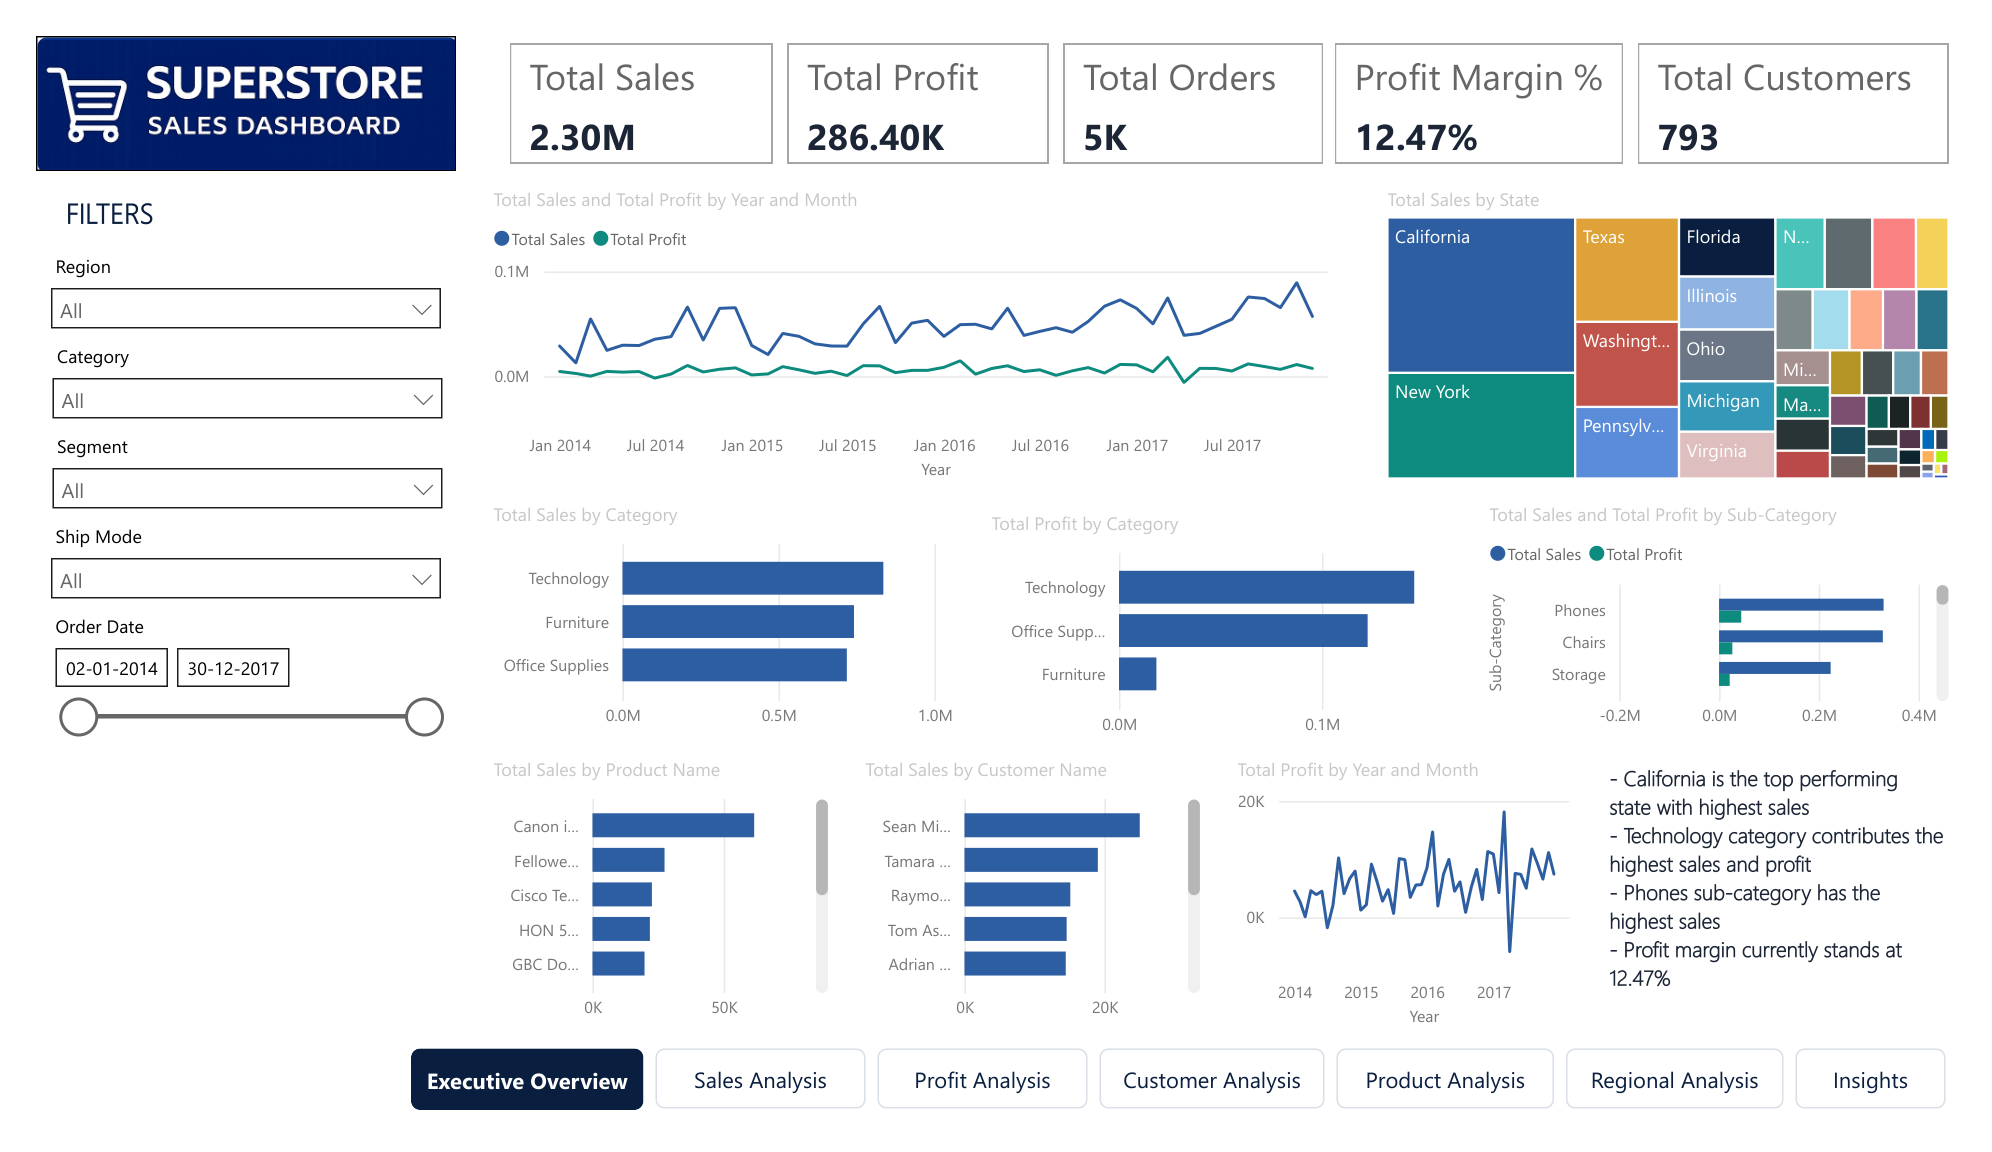

Layout of this report page (visuals, bound fields, positions):
{"tool":"powerbi","page":{"name":"Executive Overview","canvas":[1280,720],"ordinal":0},"visuals":[{"type":"cardVisual","fields":{"Data":["Sample - Superstore 2.Total Sales"]},"box":[311.4,0,184.3,90],"z":0},{"type":"cardVisual","fields":{"Data":["Sample - Superstore 2.Total Profit"]},"box":[495.7,0,184.3,90],"z":1000},{"type":"cardVisual","fields":{"Data":["Sample - Superstore 2.Profit Margin %"]},"box":[861.4,0,201.4,90],"z":2000},{"type":"clusteredBarChart","fields":{"Category":["Sample - Superstore 2.Sub-Category"],"Y":["Sample - Superstore 2.Total Sales","Sample - Superstore 2.Total Profit"]},"box":[964,310,316,160],"z":3000},{"type":"treemap","fields":{"Group":["Sample - Superstore 2.State"],"Values":["Sample - Superstore 2.Total Sales"]},"box":[896,100,384,200],"z":4000},{"type":"lineChart","fields":{"Y":["Sample - Superstore 2.Total Sales","Sample - Superstore 2.Total Profit"],"Category":["Date.Date.Variation.Date Hierarchy.Year","Date.Date.Variation.Date Hierarchy.Month"]},"box":[300,100,576,200],"z":5000},{"type":"slicer","fields":{"Values":["Sample - Superstore 2.Region"]},"box":[0,140,280,55],"z":6000},{"type":"slicer","fields":{"Values":["Sample - Superstore 2.Category"]},"box":[1.1,200,280,55],"z":7000},{"type":"slicer","fields":{"Values":["Sample - Superstore 2.Order Date"]},"box":[0,380,280.3,130],"z":8000},{"type":"cardVisual","fields":{"Data":["Sample - Superstore 2.Total Orders"]},"box":[680,0,182.9,90],"z":9000},{"type":"cardVisual","fields":{"Data":["Sample - Superstore 2.Total Customers"]},"box":[1062.9,0,217.1,90],"z":10000},{"type":"clusteredBarChart","fields":{"Category":["Sample - Superstore 2.Category"],"Y":["Sample - Superstore 2.Total Sales"]},"box":[300,310,316,160],"z":11000},{"type":"clusteredBarChart","fields":{"Category":["Sample - Superstore 2.Category"],"Y":["Sample - Superstore 2.Total Profit"]},"box":[632,316,310,160],"z":12000},{"type":"clusteredBarChart","fields":{"Category":["Sample - Superstore 2.Product Name"],"Y":["Sample - Superstore 2.Total Sales"]},"box":[300,480,233,185],"z":13000},{"type":"clusteredBarChart","fields":{"Category":["Sample - Superstore 2.Customer Name"],"Y":["Sample - Superstore 2.Total Sales"]},"box":[548,480,233,185],"z":14000},{"type":"lineChart","fields":{"Y":["Sample - Superstore 2.Total Profit"],"Category":["Date.Date.Variation.Date Hierarchy.Year","Date.Date.Variation.Date Hierarchy.Month"]},"box":[796,480,233,185],"z":15000},{"type":"textbox","box":[1044,480,233,185],"z":16000},{"type":"slicer","fields":{"Values":["Sample - Superstore 2.Segment"]},"box":[1.1,260,280,55],"z":17000},{"type":"slicer","fields":{"Values":["Sample - Superstore 2.Ship Mode"]},"box":[0,320,280,54.6],"z":18000},{"type":"actionButton","title":"sdgtsdgte","box":[250,675,155,40.7],"z":19000},{"type":"actionButton","box":[413,675,140,40],"z":20000},{"type":"actionButton","box":[867,675,145,40],"z":21000},{"type":"actionButton","box":[709,675,150,40],"z":22000},{"type":"actionButton","box":[561,675,140,40],"z":23000},{"type":"actionButton","box":[1020,675,145,40],"z":24000},{"type":"actionButton","box":[1173,675,100,40],"z":25000},{"type":"image","box":[0,0,280.3,89.6],"z":26000},{"type":"textbox","box":[15,100,200,35],"z":28000}]}

Visuals, with their boxes in screenshot pixels (x1, y1, x2, y2), scaled from the page's 1280x720 canvas onto the 1992x1152 screenshot:
cardVisual - Sample - Superstore 2.Total Sales: [485,0,771,144]
cardVisual - Sample - Superstore 2.Total Profit: [771,0,1058,144]
cardVisual - Sample - Superstore 2.Profit Margin %: [1341,0,1654,144]
clusteredBarChart - Sample - Superstore 2.Sub-Category x Sample - Superstore 2.Total Sales: [1500,496,1991,752]
treemap - Sample - Superstore 2.State x Sample - Superstore 2.Total Sales: [1394,160,1991,480]
lineChart - Sample - Superstore 2.Total Sales x Sample - Superstore 2.Total Profit: [467,160,1363,480]
slicer - Sample - Superstore 2.Region: [0,224,436,312]
slicer - Sample - Superstore 2.Category: [2,320,437,408]
slicer - Sample - Superstore 2.Order Date: [0,608,436,816]
cardVisual - Sample - Superstore 2.Total Orders: [1058,0,1343,144]
cardVisual - Sample - Superstore 2.Total Customers: [1654,0,1991,144]
clusteredBarChart - Sample - Superstore 2.Category x Sample - Superstore 2.Total Sales: [467,496,959,752]
clusteredBarChart - Sample - Superstore 2.Category x Sample - Superstore 2.Total Profit: [984,506,1466,762]
clusteredBarChart - Sample - Superstore 2.Product Name x Sample - Superstore 2.Total Sales: [467,768,829,1064]
clusteredBarChart - Sample - Superstore 2.Customer Name x Sample - Superstore 2.Total Sales: [853,768,1215,1064]
lineChart - Sample - Superstore 2.Total Profit x Date.Date.Variation.Date Hierarchy.Year: [1239,768,1601,1064]
textbox: [1625,768,1987,1064]
slicer - Sample - Superstore 2.Segment: [2,416,437,504]
slicer - Sample - Superstore 2.Ship Mode: [0,512,436,599]
"sdgtsdgte" actionButton: [389,1080,630,1145]
actionButton: [643,1080,861,1144]
actionButton: [1349,1080,1575,1144]
actionButton: [1103,1080,1337,1144]
actionButton: [873,1080,1091,1144]
actionButton: [1587,1080,1813,1144]
actionButton: [1825,1080,1981,1144]
image: [0,0,436,143]
textbox: [23,160,335,216]
